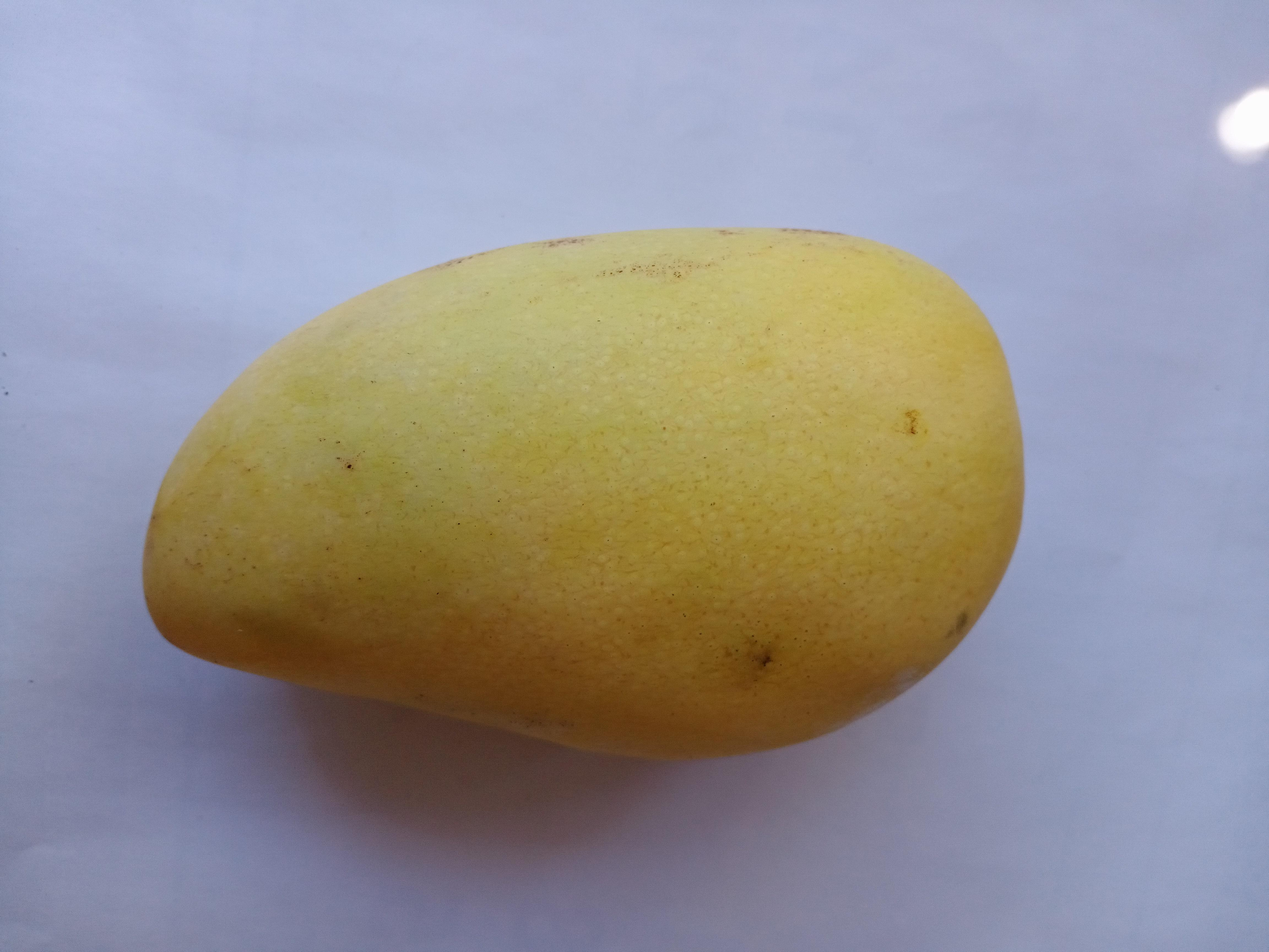Mango Ripe: (77, 160, 1085, 821)
